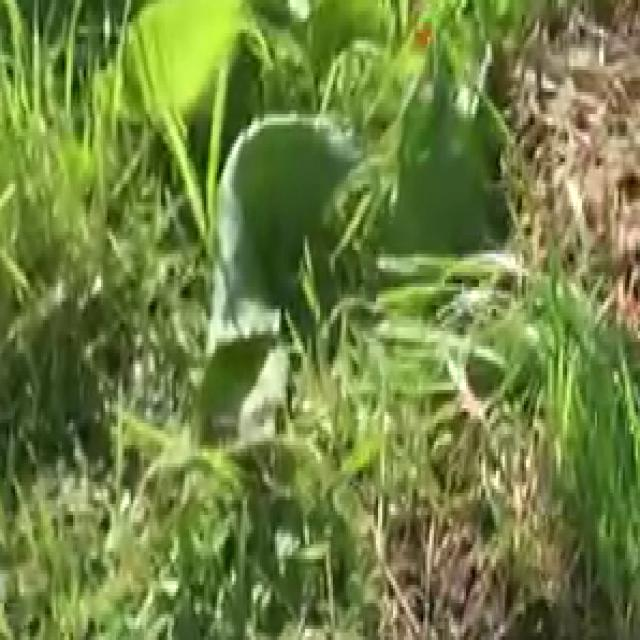organic waste: (120, 0, 537, 530)
